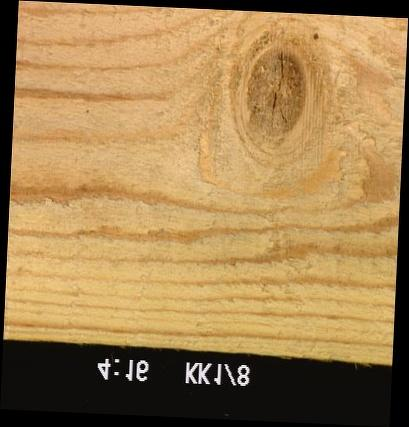small_knot: (309, 29, 323, 45)
sound_knot: (237, 43, 311, 143)
